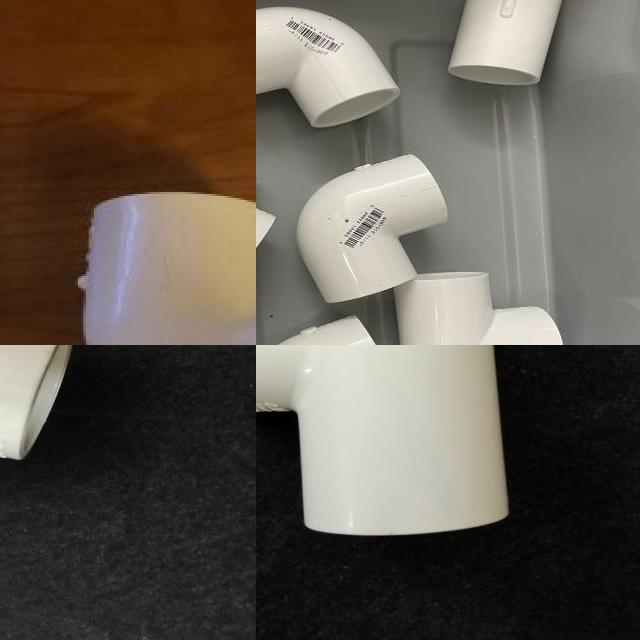L Joint: (76, 192, 256, 345), (295, 155, 445, 305), (256, 6, 399, 132)
T Joint: (256, 345, 509, 539), (394, 272, 564, 345)
